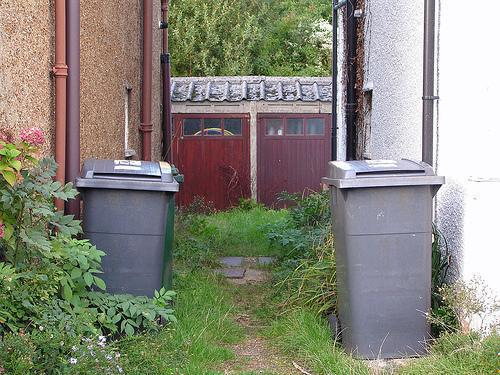Bote de Basura: (331, 156, 436, 353), (91, 164, 174, 322)
